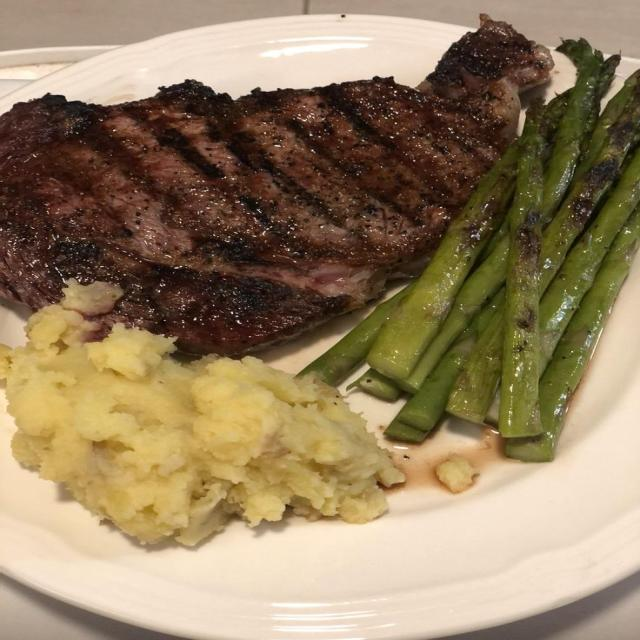asparagus: (367, 141, 519, 378), (506, 208, 639, 461), (540, 151, 639, 372), (541, 85, 639, 293), (388, 290, 504, 439), (500, 102, 544, 437), (299, 283, 413, 385), (541, 41, 601, 220), (541, 46, 597, 226), (574, 70, 639, 181), (347, 369, 401, 401)
beef steak: (0, 16, 553, 355)
mashed potatoes: (0, 284, 403, 545)
